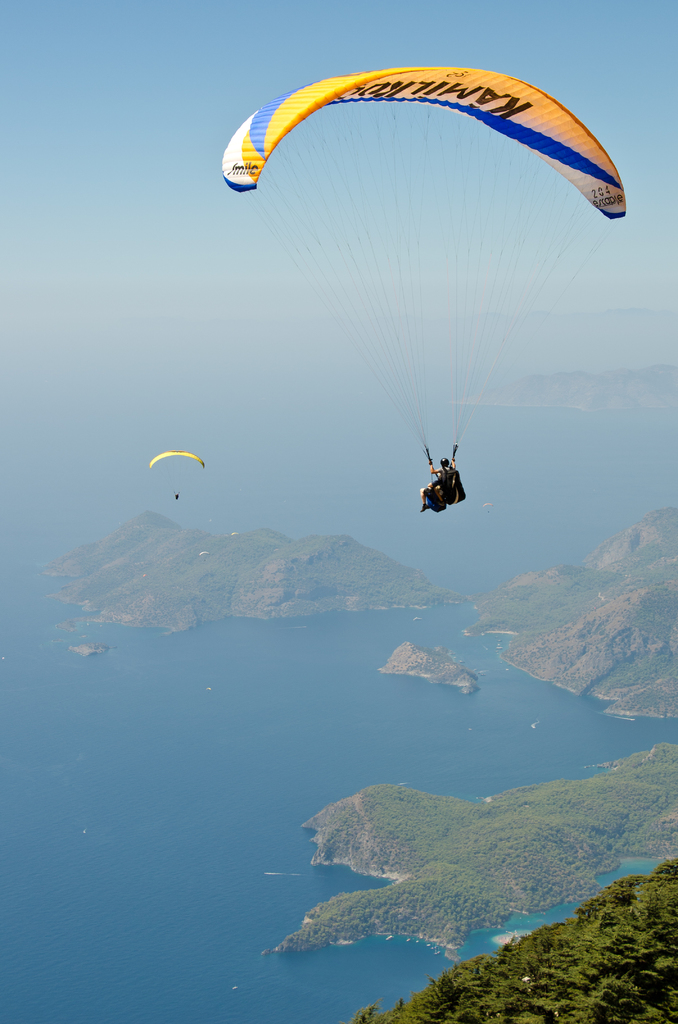person: (418, 453, 466, 513)
